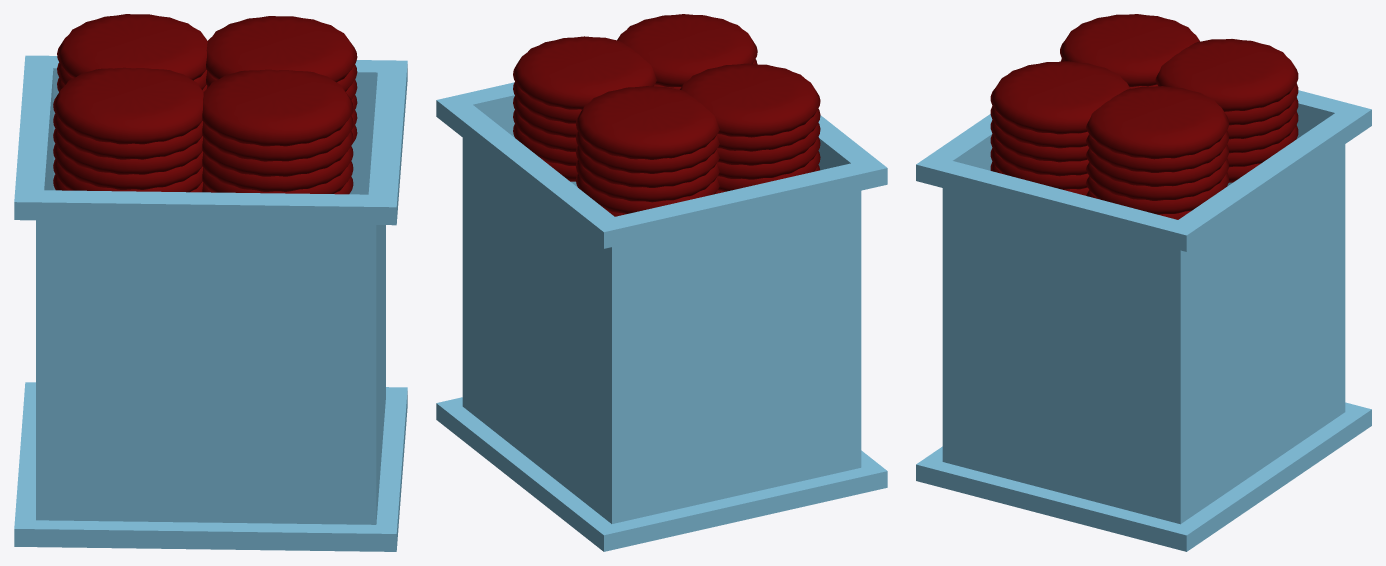
Rendered from ColeccionCarne.fbx.
3 views of the same model, side by side, from view 1: azimuth 30°, elevation 25°; view 2: azimuth 150°, elevation 25°; view 3: azimuth 270°, elevation 25° (orthographic). The views are drawn at different scales.
Parts seen in each view (by area): view 1: pCylinder70; view 2: pCylinder70; view 3: pCylinder70.
Part boxes in pixels (x1=…): pCylinder70: x1=14, y1=14, x2=407, y2=551; pCylinder70: x1=436, y1=14, x2=887, y2=551; pCylinder70: x1=916, y1=14, x2=1371, y2=551.
Size of the model in its own units: 9.17 by 8.16 by 8.96.
